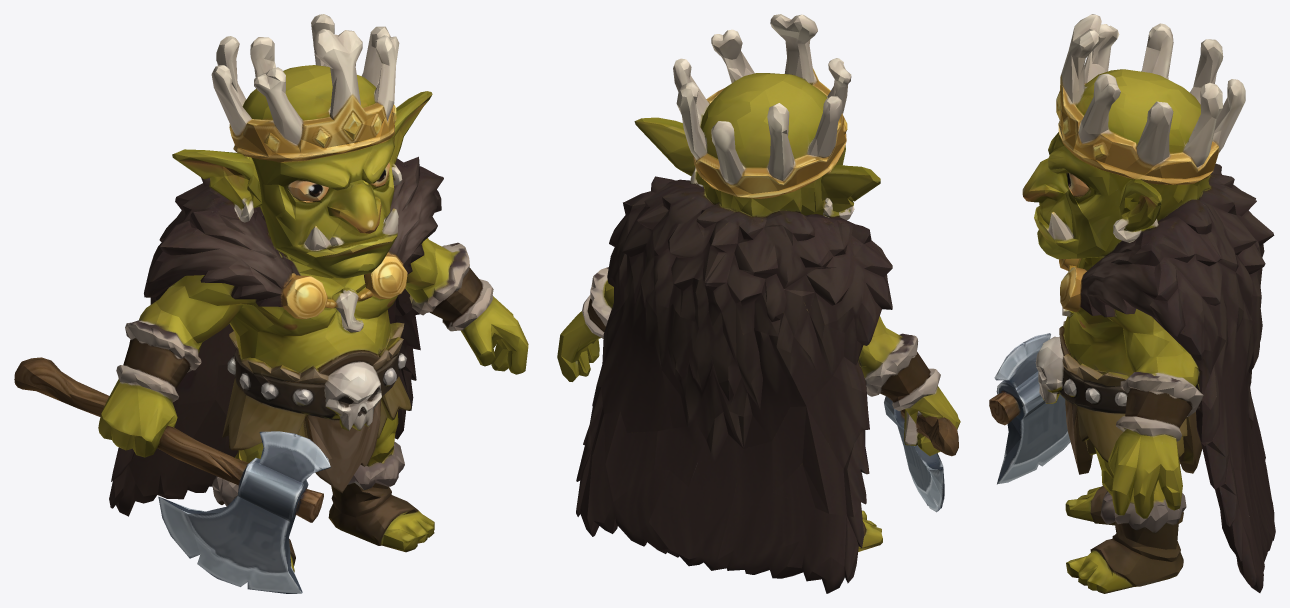
The model's file is Goblin_Chief.fbx.
3 views of the same model, side by side, from view 1: azimuth 30°, elevation 25°; view 2: azimuth 150°, elevation 25°; view 3: azimuth 270°, elevation 25° (orthographic). The views are drawn at different scales.
Parts seen in each view (by area): view 1: output_unwrapped; view 2: output_unwrapped; view 3: output_unwrapped.
Part boxes in pixels (<box>): output_unwrapped: <box>14,14,528,593</box>; output_unwrapped: <box>557,14,960,593</box>; output_unwrapped: <box>989,14,1275,593</box>.
Size of the model in its own units: 172 by 190 by 94.1.
1 material, 1 textured.
